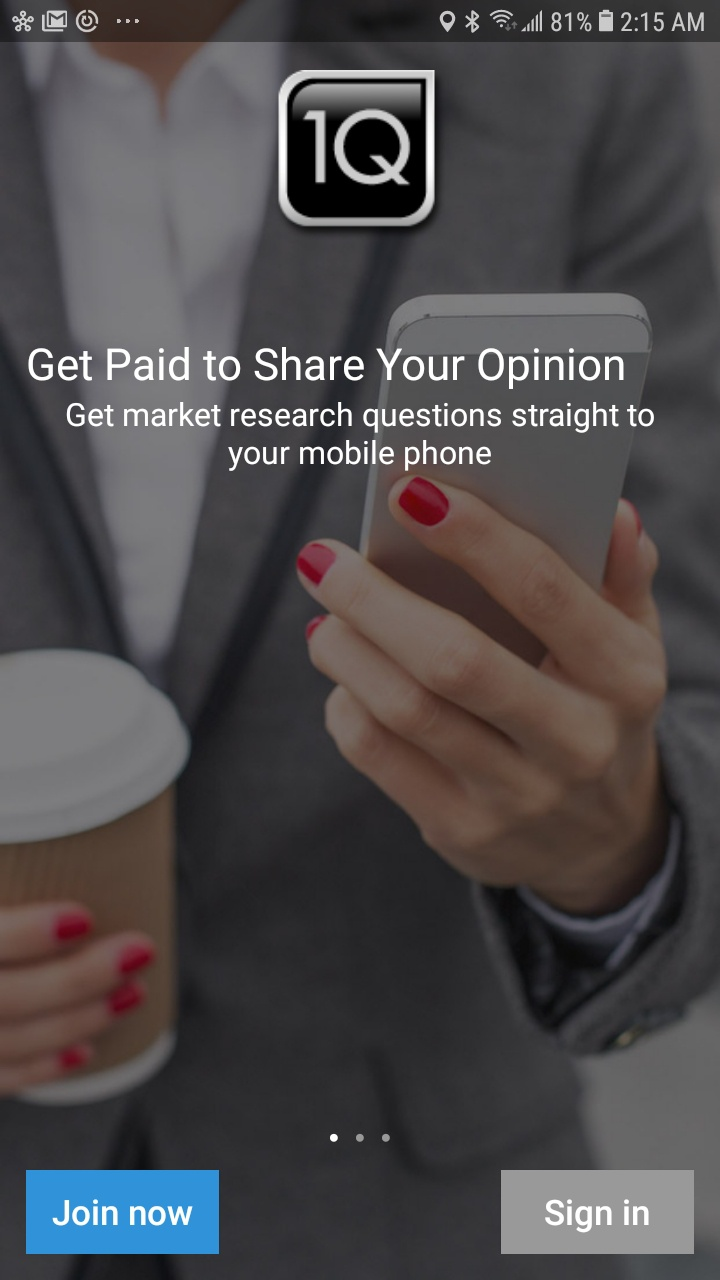BackgroundImage: (1, 43, 720, 1280)
Image: (277, 70, 436, 229)
PageIndicator: (329, 1132, 391, 1143)
Text: (67, 402, 655, 473), (28, 346, 625, 390)
TextButton: (26, 1170, 220, 1255), (501, 1170, 695, 1255)
UpperTaskBar: (1, 1, 720, 43)
